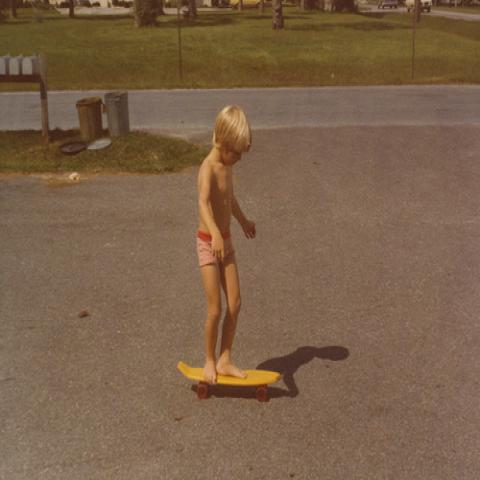car: (404, 0, 432, 13), (377, 0, 397, 9)
